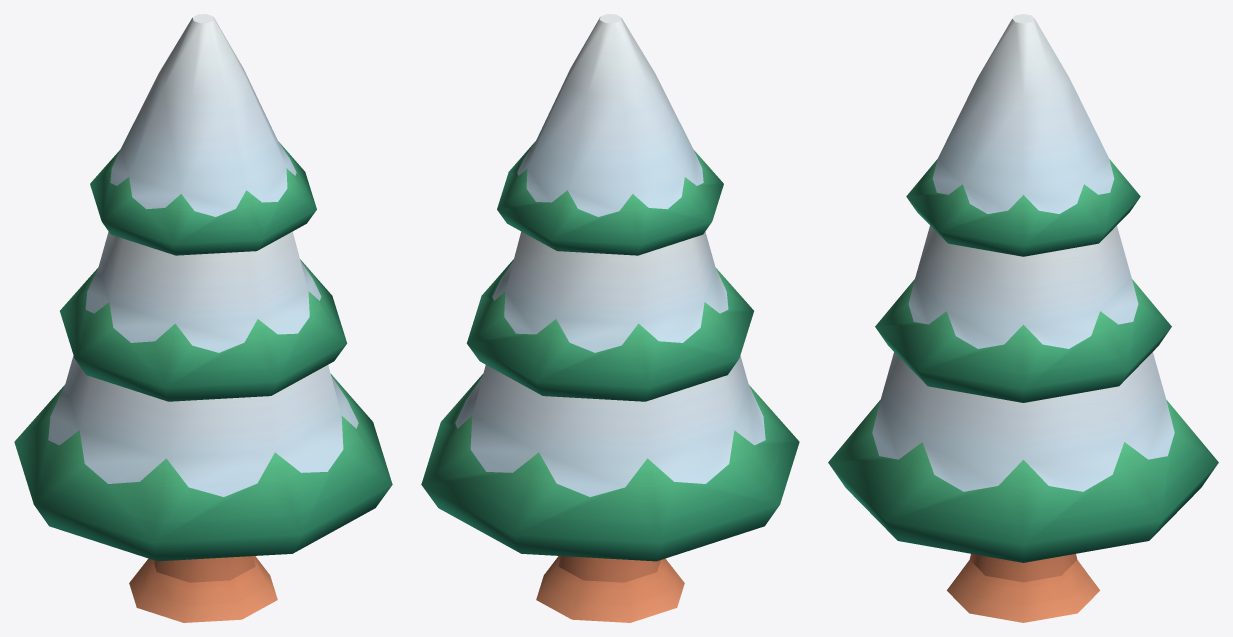
The model's file is k-holiday-tree-snow-a.glb.
3 renders of one model, left to right at view 1: azimuth 30°, elevation 25°; view 2: azimuth 150°, elevation 25°; view 3: azimuth 270°, elevation 25°, orthographic.
Visible parts, largest first — view 1: tree-snow-a; view 2: tree-snow-a; view 3: tree-snow-a.
Part boxes in pixels (<box>): tree-snow-a: <box>14,14,392,622</box>; tree-snow-a: <box>421,14,799,622</box>; tree-snow-a: <box>828,14,1218,622</box>.
Size of the model in its own units: 1.19 by 1.92 by 1.19.
1 material, 1 textured.
